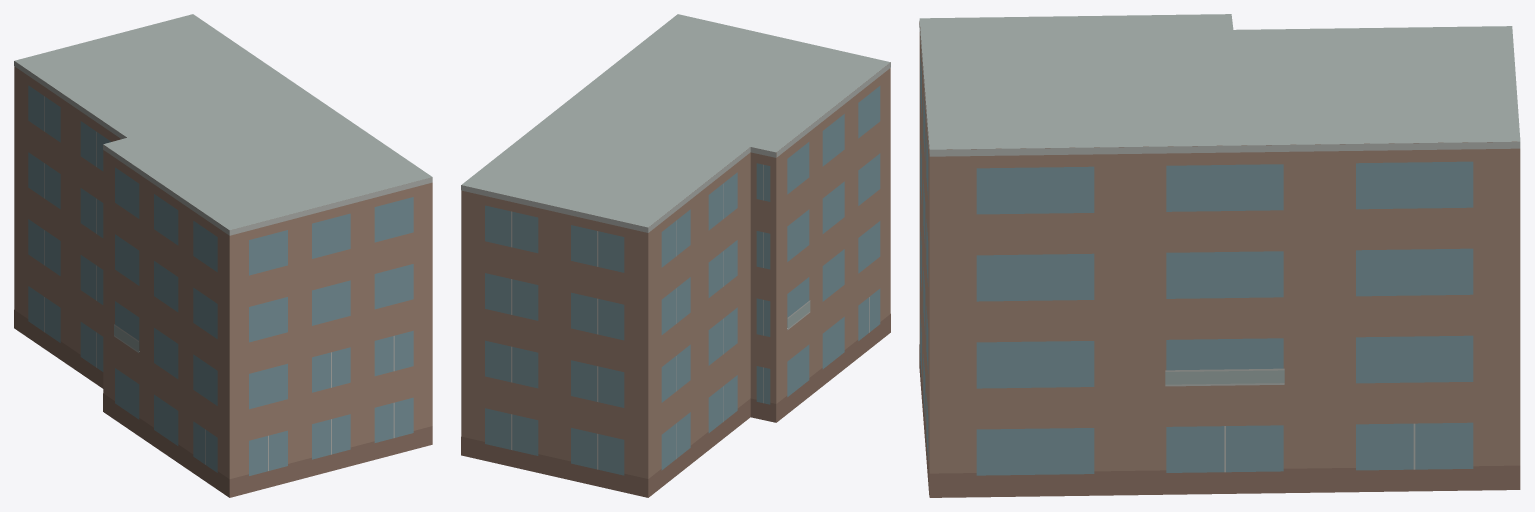
The model's file is survey-upis-32496231.glb.
3 renders of one model, left to right at view 1: azimuth 30°, elevation 25°; view 2: azimuth 150°, elevation 25°; view 3: azimuth 270°, elevation 25°, orthographic. The views are drawn at different scales.
Visible parts, largest first — view 1: survey-upis-32496231.tmp; view 2: survey-upis-32496231.tmp; view 3: survey-upis-32496231.tmp.
Part boxes in pixels (x1,y1,x2,y2): survey-upis-32496231.tmp: (14, 14, 432, 497); survey-upis-32496231.tmp: (461, 14, 890, 497); survey-upis-32496231.tmp: (919, 14, 1520, 497).
Bounding box in the file's own units: 10.13 × 12.1 × 18.94.
